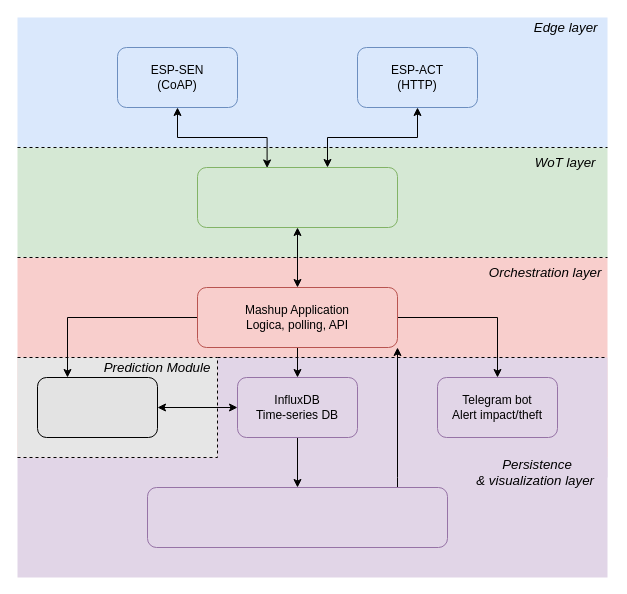
The diagram is 627 pixels wide and 594 high, and some of its shapes have lost their labels. The centre of each missing label's shape, as x and y in pixels:
Grafana Dashboard: point (297, 517)
Predictive light ARIMA: point (97, 407)
WoT Controller Things descriptor: point (297, 197)
